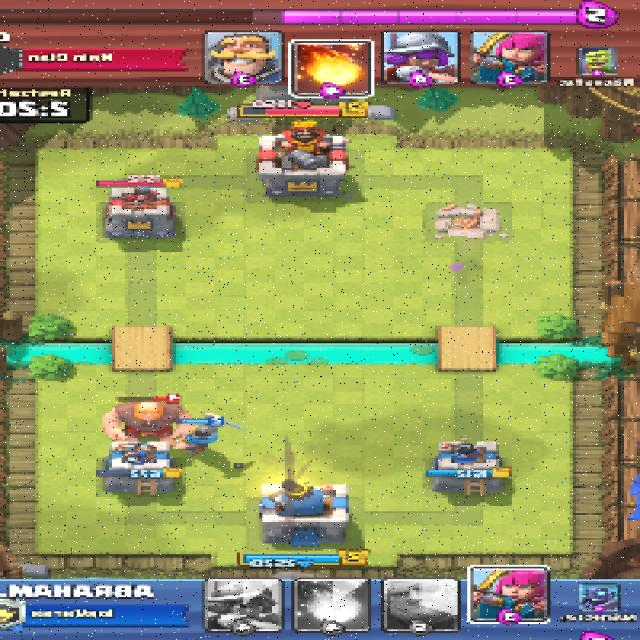Enemy-Giant: (100, 399, 198, 445)
Player-Knight: (177, 411, 222, 456)
